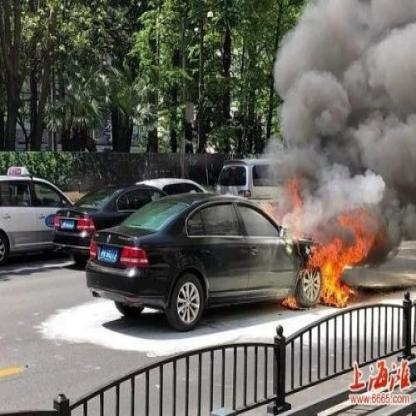fire: (279, 165, 360, 308)
smoke: (281, 0, 397, 158)
